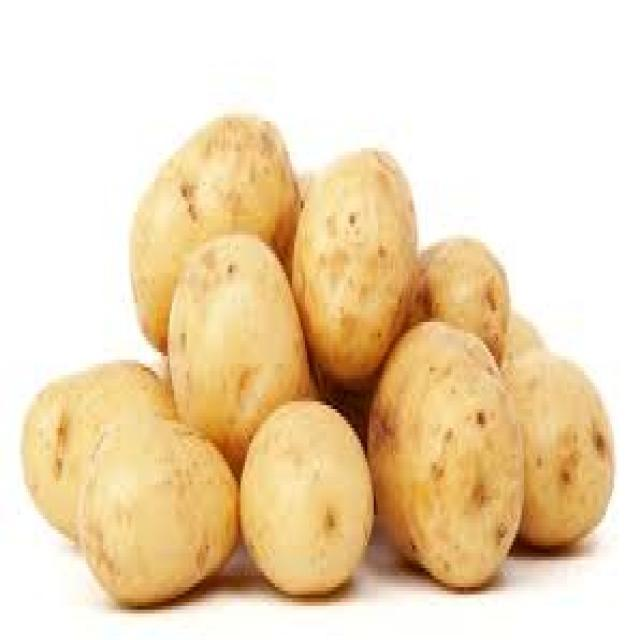Potato: (20, 363, 241, 611), (364, 321, 525, 592), (127, 115, 302, 354), (166, 233, 321, 481), (290, 149, 438, 405), (239, 400, 375, 600), (501, 321, 616, 554), (421, 238, 511, 370)
